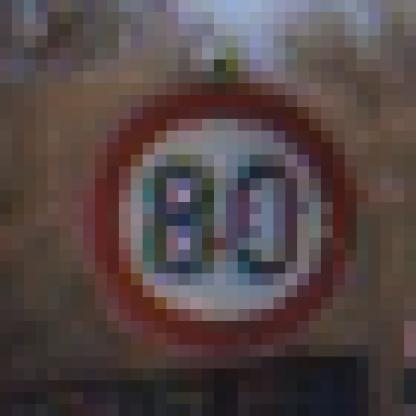Speed Limit -80-: (78, 31, 410, 365)
